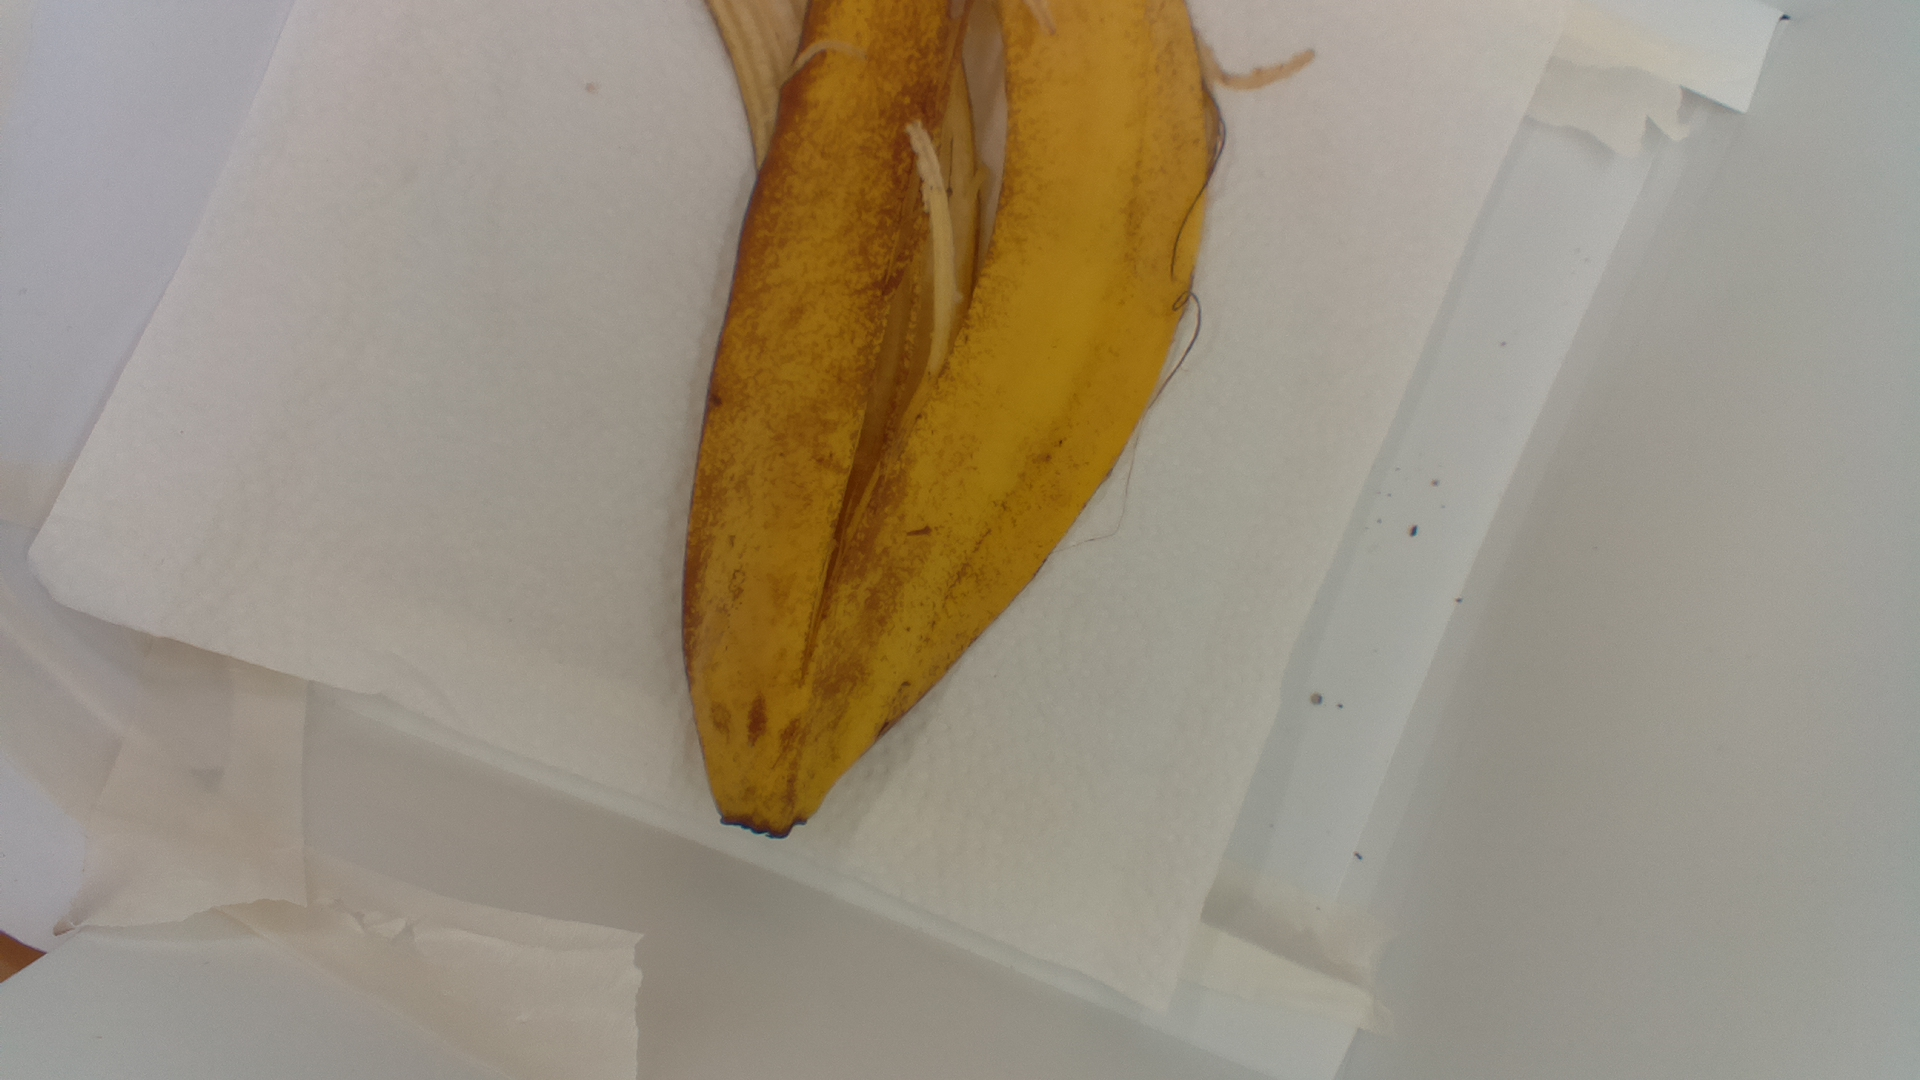fruit: (682, 1, 1333, 845)
